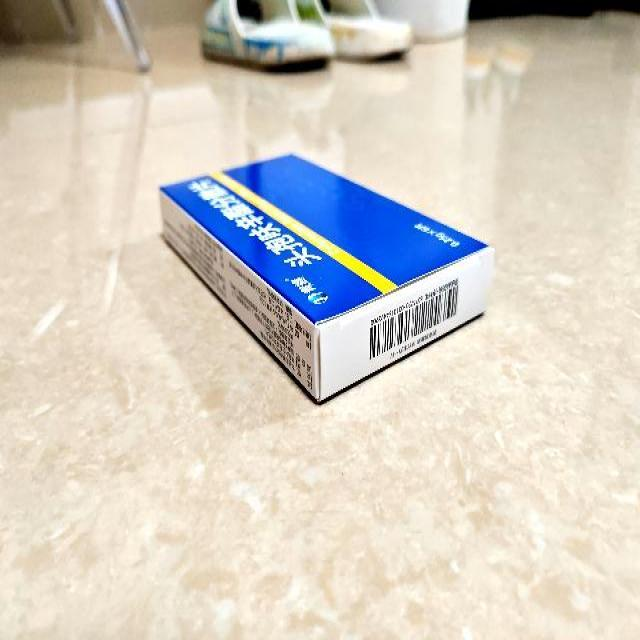box: (161, 152, 494, 406)
